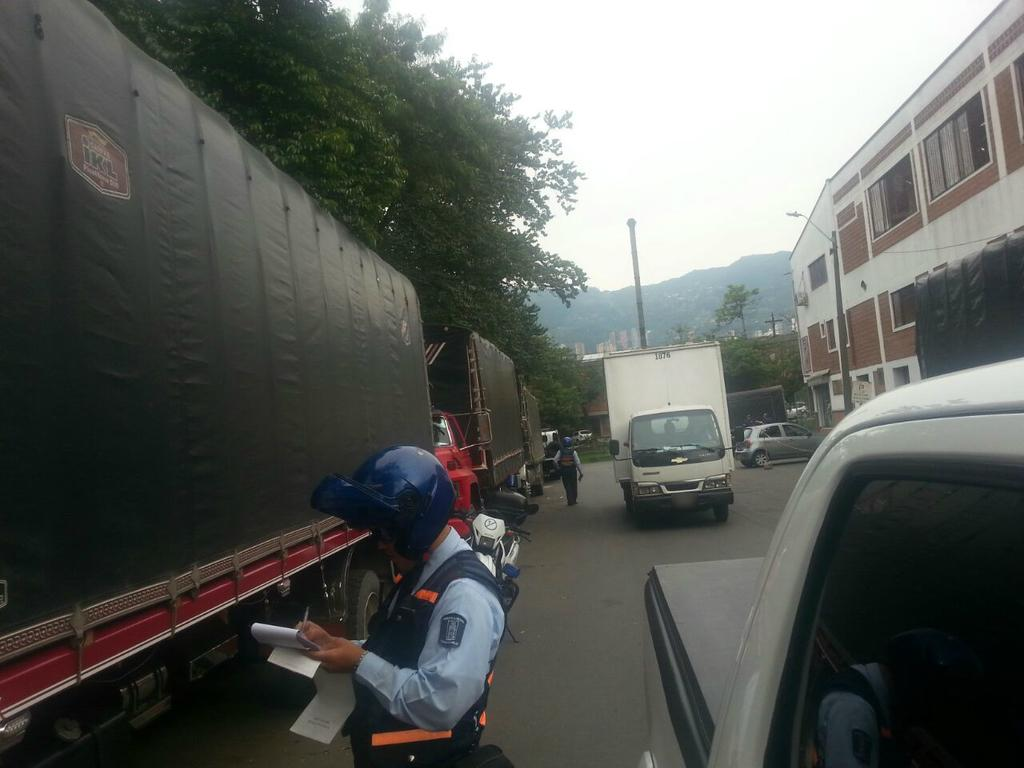helmet: (309, 444, 458, 563), (562, 436, 572, 448)
